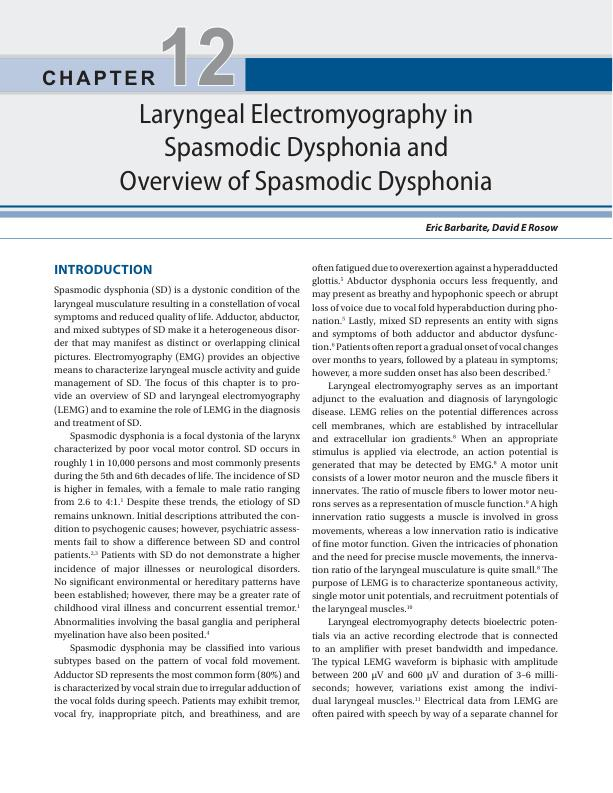chapter-heading: (118, 102, 495, 199)
section-heading: (53, 264, 153, 275)
text: (310, 262, 559, 721), (53, 285, 302, 721)
